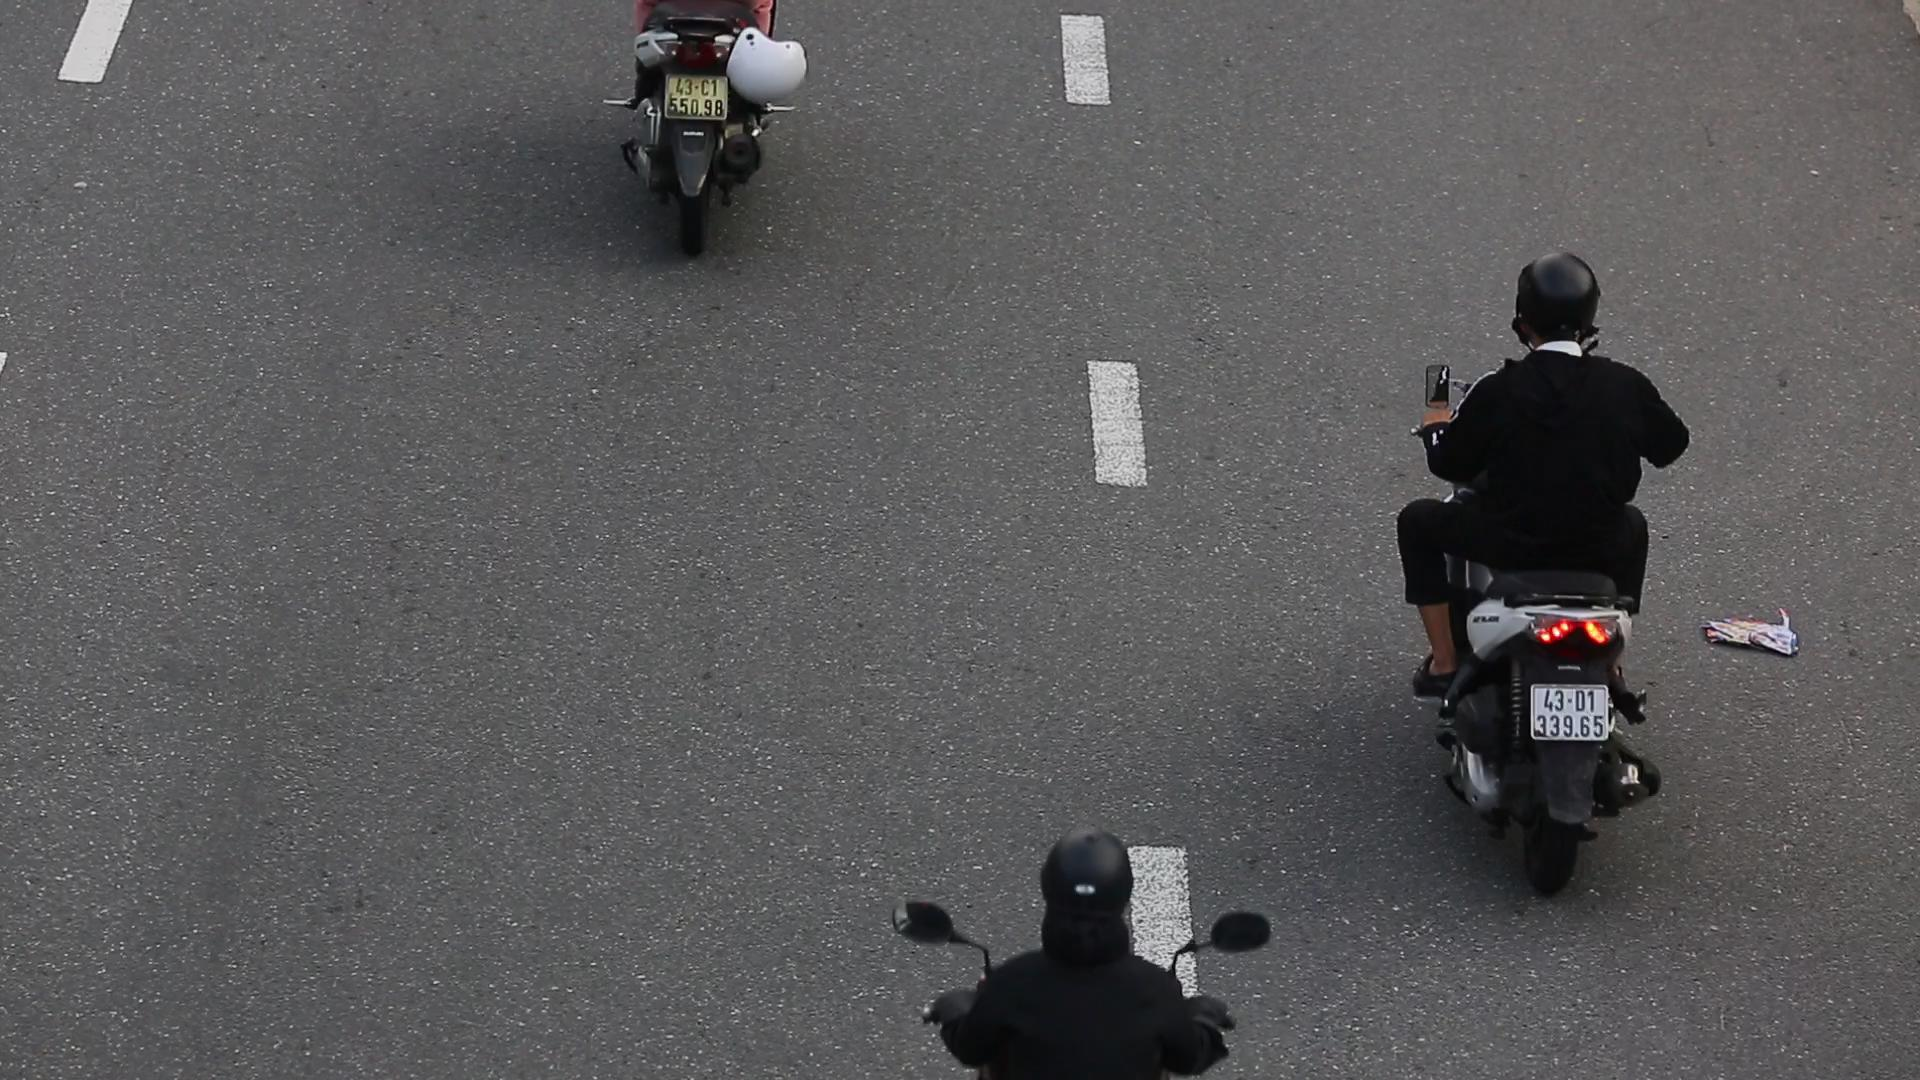motobike: (1391, 241, 1724, 928)
